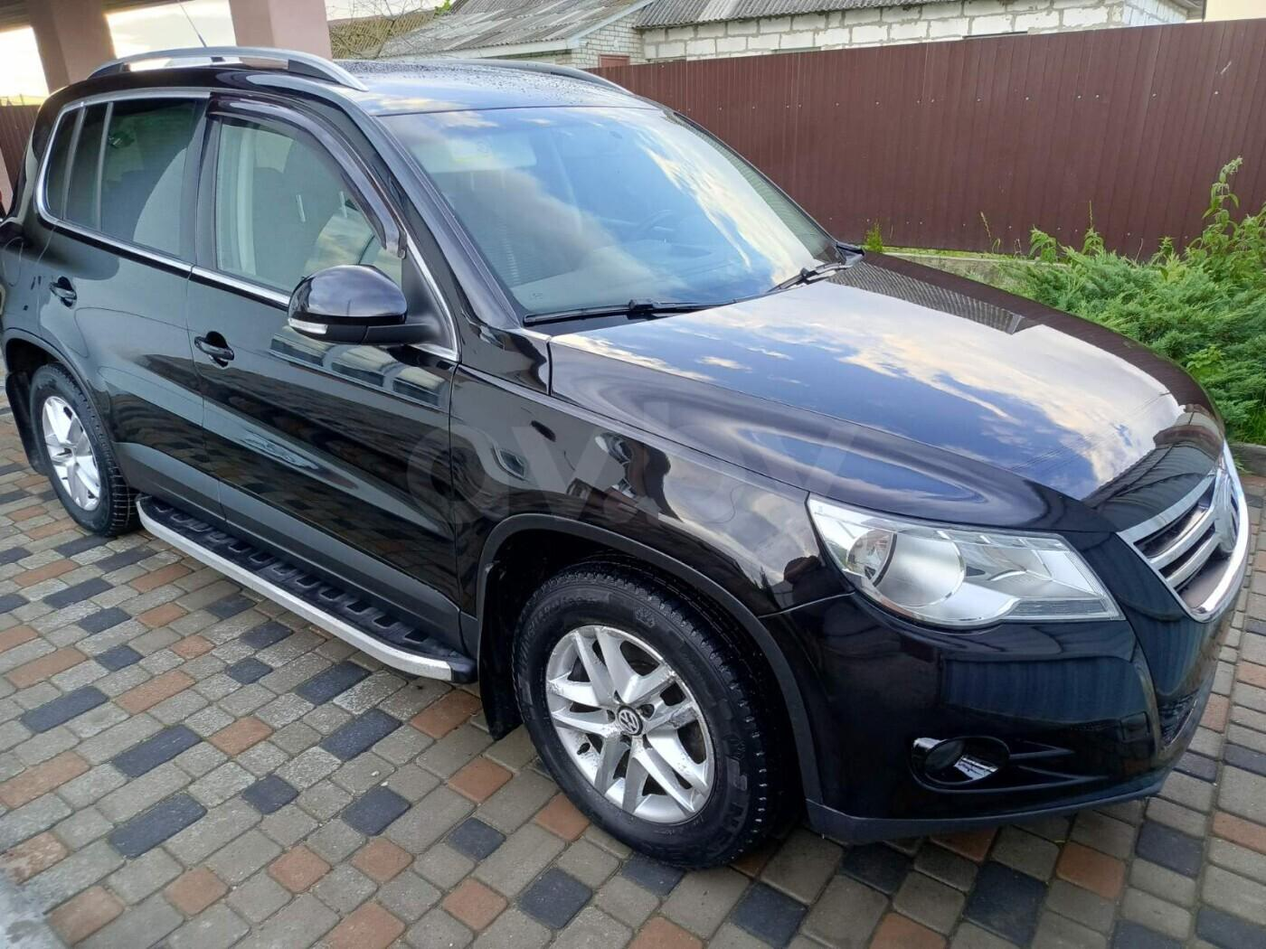Tiguan_2007-2011: (0, 56, 1260, 864)
